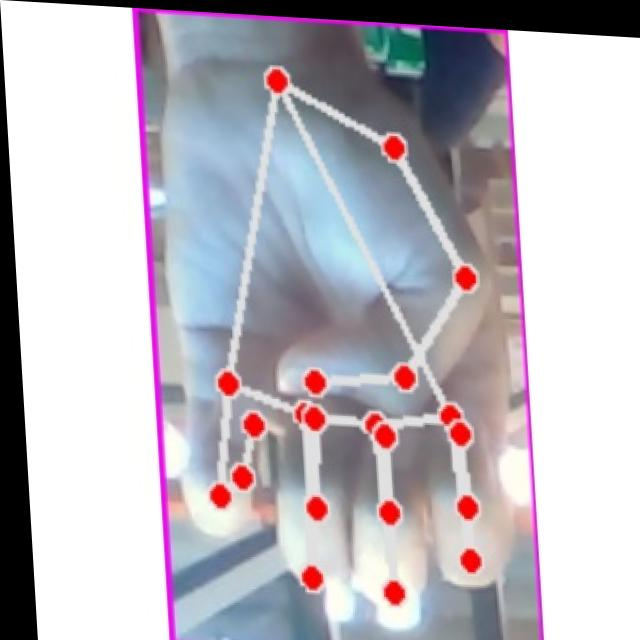E: (149, 56, 515, 614)
